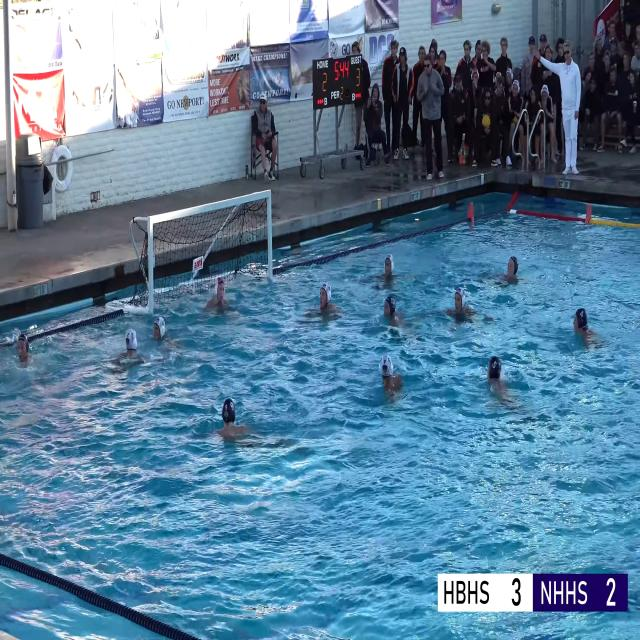ball: (482, 114, 491, 128), (513, 115, 518, 124)
